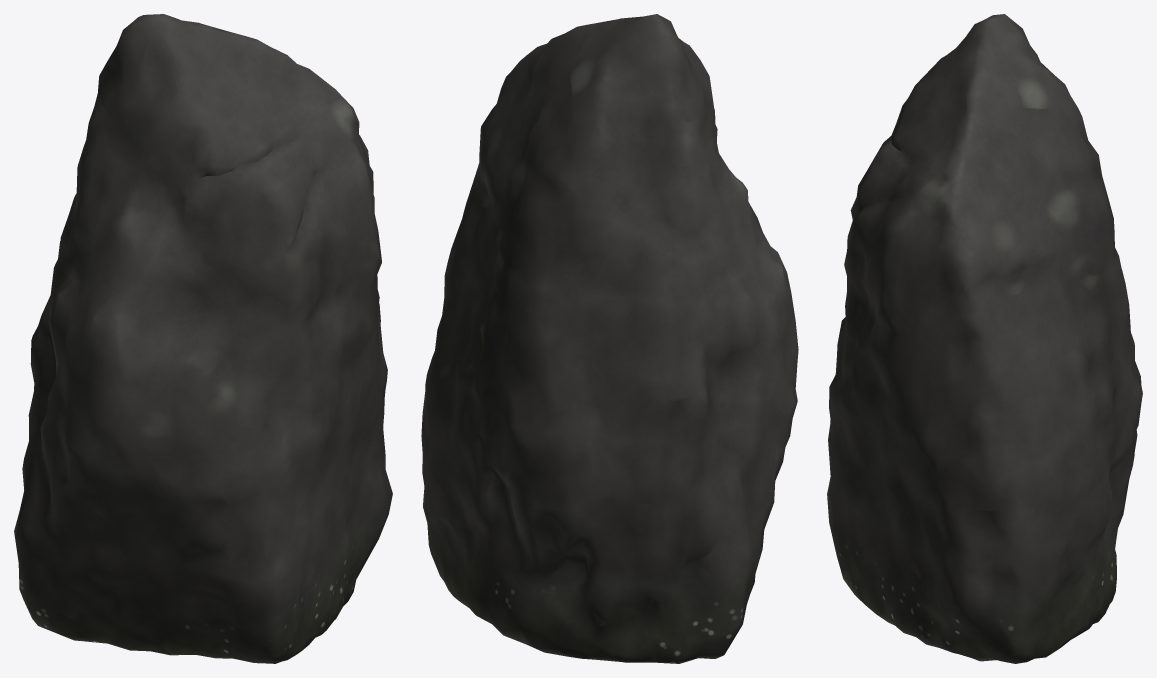
The model's file is rock_spire.glb.
The picture shows the model from 3 angles, left to right: view 1: azimuth 30°, elevation 25°; view 2: azimuth 150°, elevation 25°; view 3: azimuth 270°, elevation 25°; orthographic projection. The views are drawn at different scales.
Parts seen in each view (by area): view 1: rock_spire; view 2: rock_spire; view 3: rock_spire.
Part boxes in pixels (box(x1,y1,x2,y2)): rock_spire: box(14, 14, 392, 663); rock_spire: box(421, 14, 798, 663); rock_spire: box(827, 14, 1142, 663).
Size of the model in its own units: 0.8863 by 1.55 by 0.7756.
Materials: 1 (1 with a texture image).
